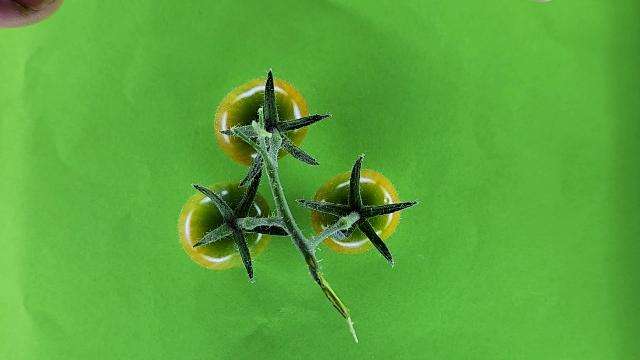Fully Grown: (178, 179, 274, 270), (213, 76, 311, 165), (309, 167, 403, 254)
